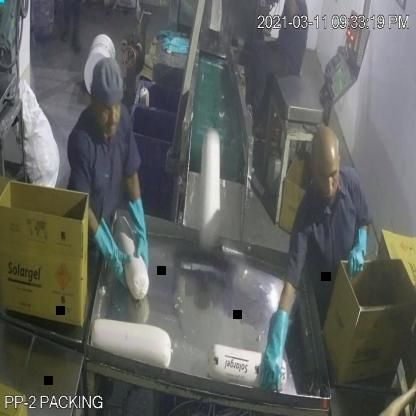glove: (254, 300, 288, 402), (125, 189, 157, 282), (94, 214, 130, 288), (346, 227, 370, 286)
no_glove: (375, 370, 416, 416)
